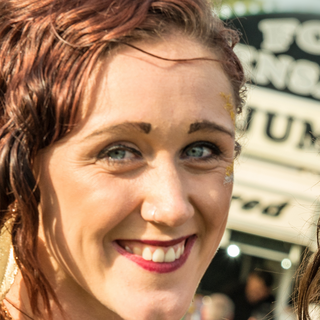eye: (93, 141, 146, 172), (172, 139, 226, 164)
